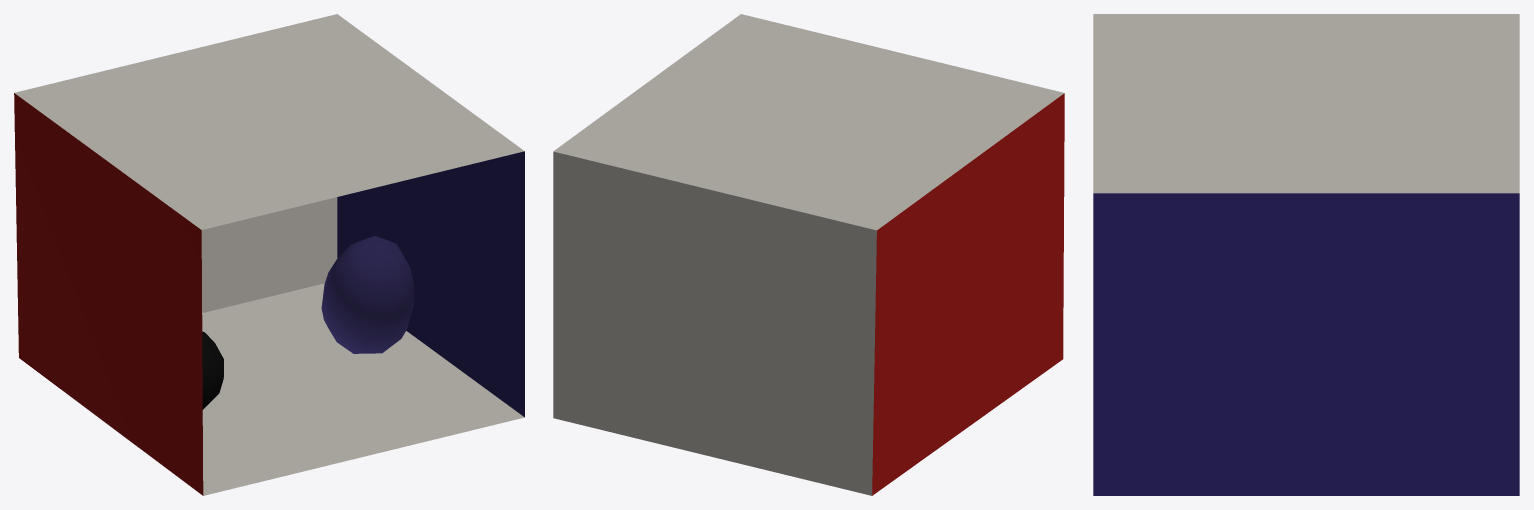
The model's file is CornellBox-Ellipsoid-516.obj.
The picture shows the model from 3 angles, left to right: view 1: azimuth 30°, elevation 25°; view 2: azimuth 150°, elevation 25°; view 3: azimuth 270°, elevation 25°; orthographic projection. The views are drawn at different scales.
Visible parts, largest first — view 1: ceiling, leftWall, floor, rightWall, backWall, leftSphere, rightSphere; view 2: backWall, ceiling, leftWall; view 3: rightWall, ceiling.
Boxes of the visible parts, x1,y1,x2,y2 form: ceiling: [14, 14, 524, 229]; leftWall: [14, 93, 203, 495]; floor: [202, 283, 524, 495]; rightWall: [337, 151, 524, 417]; backWall: [201, 197, 337, 312]; leftSphere: [321, 235, 414, 353]; rightSphere: [202, 331, 223, 409]; backWall: [553, 151, 876, 495]; ceiling: [553, 14, 1064, 230]; leftWall: [872, 93, 1064, 495]; rightWall: [1093, 193, 1519, 495]; ceiling: [1093, 14, 1519, 193].
Bounding box in the file's own units: 2.02 × 1.59 × 2.03.
